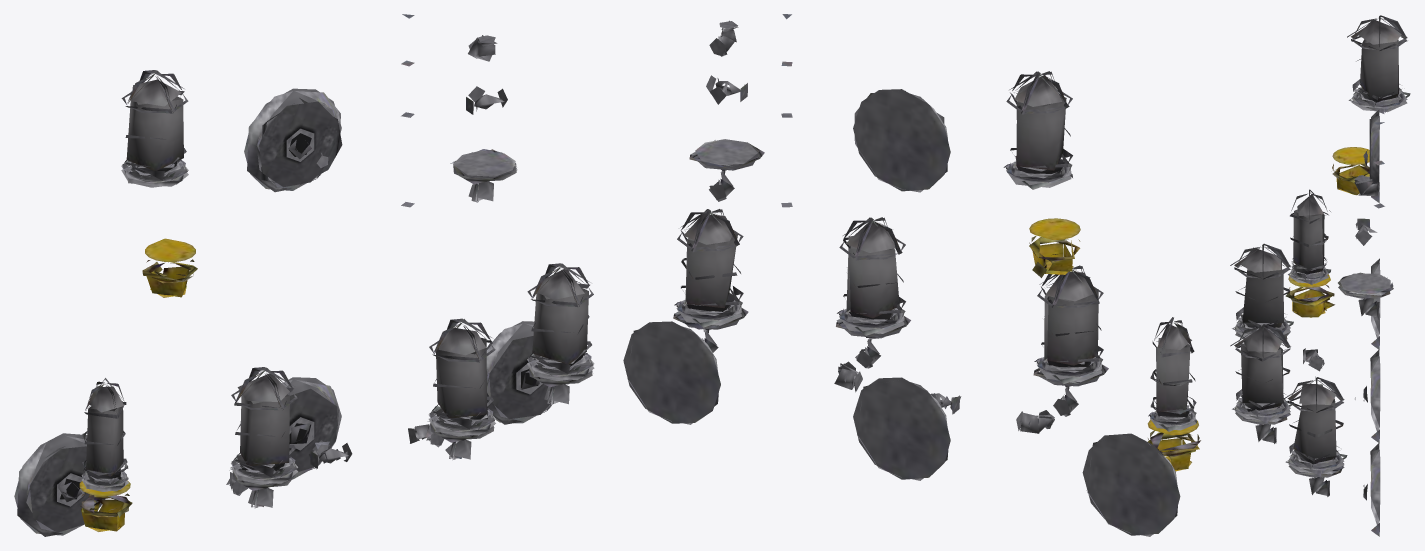
The model's file is industrial_caged_sconce.glb.
3 views of the same model, side by side, from view 1: azimuth 30°, elevation 25°; view 2: azimuth 150°, elevation 25°; view 3: azimuth 270°, elevation 25° (orthographic). The views are drawn at different scales.
Parts seen in each view (by area): view 1: industrial_caged_sconce_c, industrial_caged_sconce_b, industrial_caged_sconce_a, industrial_caged_sconce_mount, industrial_caged_sconce_light, industrial_caged_sconce_base_a, industrial_caged_sconce_base_b; view 2: industrial_caged_sconce_c, industrial_caged_sconce_a, industrial_caged_sconce_b, industrial_caged_sconce_mount, industrial_caged_sconce_light, industrial_caged_sconce_base_a, industrial_caged_sconce_base_b; view 3: industrial_caged_sconce_c, industrial_caged_sconce_a, industrial_caged_sconce_b, industrial_caged_sconce_light, industrial_caged_sconce_base_b, industrial_caged_sconce_base_a, industrial_caged_sconce_mount, industrial_caged_sconce_elbow, industrial_caged_sconce_pipe_t.
Part boxes in pixels (x1=…): industrial_caged_sconce_c: x1=226, y1=318, x2=495, y2=508; industrial_caged_sconce_b: x1=14, y1=378, x2=132, y2=536; industrial_caged_sconce_a: x1=486, y1=263, x2=594, y2=424; industrial_caged_sconce_mount: x1=244, y1=88, x2=342, y2=192; industrial_caged_sconce_light: x1=121, y1=70, x2=188, y2=187; industrial_caged_sconce_base_a: x1=142, y1=238, x2=197, y2=297; industrial_caged_sconce_base_b: x1=450, y1=149, x2=517, y2=202; industrial_caged_sconce_c: x1=834, y1=217, x2=1108, y2=480; industrial_caged_sconce_a: x1=623, y1=209, x2=748, y2=424; industrial_caged_sconce_b: x1=1082, y1=317, x2=1200, y2=536; industrial_caged_sconce_mount: x1=853, y1=89, x2=950, y2=192; industrial_caged_sconce_light: x1=1003, y1=71, x2=1072, y2=189; industrial_caged_sconce_base_a: x1=1029, y1=218, x2=1080, y2=277; industrial_caged_sconce_base_b: x1=689, y1=139, x2=764, y2=201; industrial_caged_sconce_c: x1=1230, y1=243, x2=1380, y2=443; industrial_caged_sconce_a: x1=1284, y1=376, x2=1380, y2=536; industrial_caged_sconce_b: x1=1285, y1=189, x2=1380, y2=349; industrial_caged_sconce_light: x1=1347, y1=15, x2=1410, y2=113; industrial_caged_sconce_base_b: x1=1338, y1=272, x2=1393, y2=319; industrial_caged_sconce_base_a: x1=1332, y1=147, x2=1369, y2=195; industrial_caged_sconce_mount: x1=1339, y1=109, x2=1379, y2=203; industrial_caged_sconce_elbow: x1=1354, y1=175, x2=1379, y2=198; industrial_caged_sconce_pipe_t: x1=1355, y1=218, x2=1377, y2=245.
Size of the model in its own units: 1.21 by 0.9204 by 0.4082.
1 material, 1 textured.
